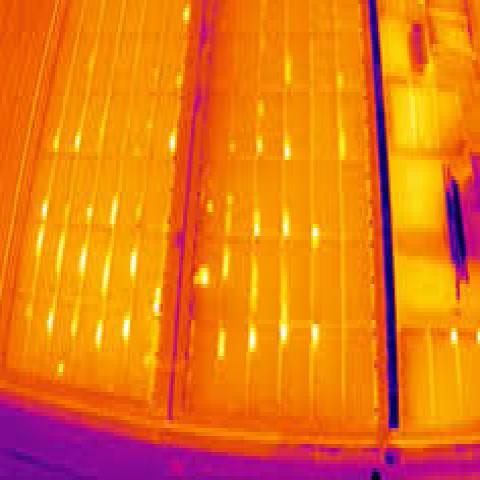fault: (32, 190, 52, 264), (74, 231, 90, 289), (65, 295, 82, 349), (165, 120, 183, 168), (43, 292, 60, 342), (278, 205, 297, 249), (54, 228, 68, 286), (126, 237, 140, 294), (98, 248, 113, 300), (222, 182, 236, 236), (277, 257, 290, 315), (246, 253, 259, 310), (117, 304, 133, 350), (241, 318, 259, 358), (310, 317, 327, 354), (212, 324, 228, 363), (335, 118, 347, 170), (106, 184, 120, 228), (189, 263, 210, 292), (279, 134, 296, 168), (49, 124, 64, 161), (282, 49, 295, 91), (274, 315, 290, 348), (219, 242, 231, 286), (92, 314, 105, 350), (253, 131, 267, 164), (150, 280, 162, 317), (252, 206, 264, 239), (71, 130, 84, 160), (180, 0, 194, 27), (172, 64, 187, 89), (446, 323, 460, 349), (204, 194, 217, 222), (310, 217, 322, 247), (256, 93, 270, 117), (227, 133, 240, 158), (334, 62, 344, 92), (53, 359, 65, 384), (84, 200, 96, 225), (476, 322, 480, 350)
